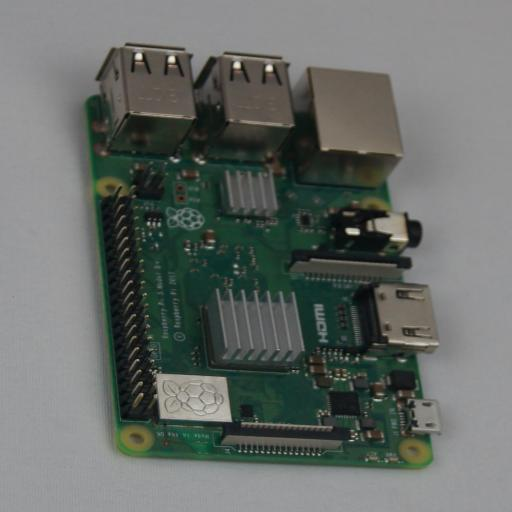Raspberry Pi 3 B-: (80, 43, 440, 469)
